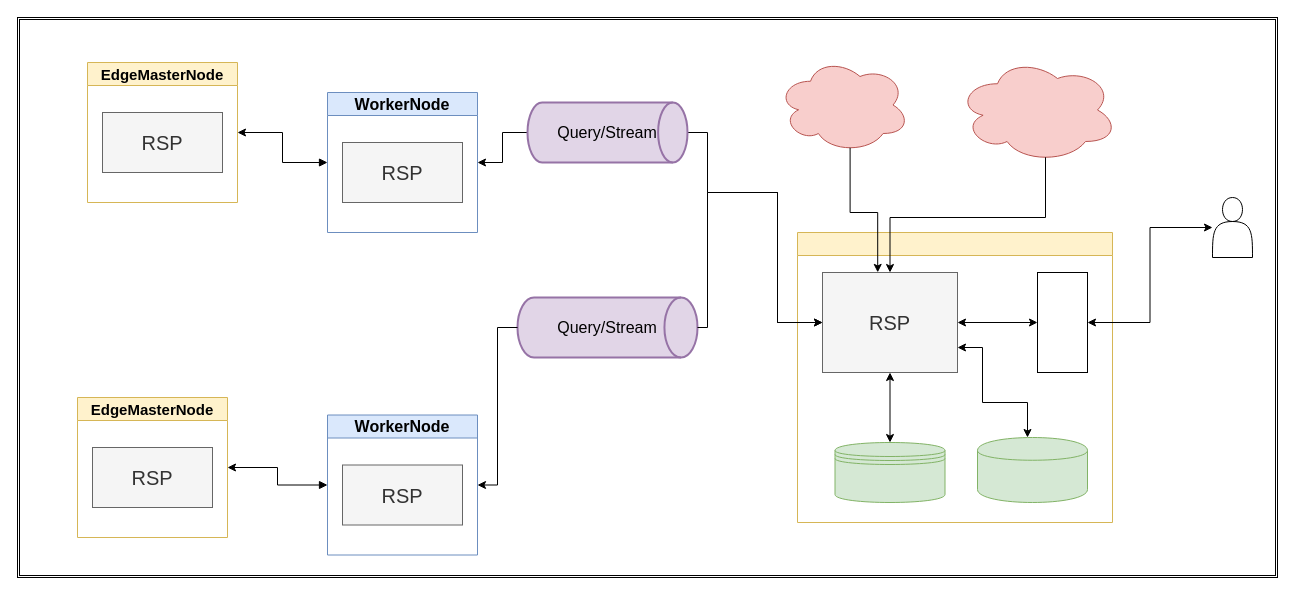
The diagram is 1295 pixels wide and 595 high, and some of its shapes have lost their labels. Each missing label, with the box of its shape:
CityOnto: (776, 56, 910, 152)
ConceptOnto: (956, 56, 1118, 162)
DataBase: (834, 442, 945, 502)
FogMasterNode: (796, 232, 1112, 522)
NodePlatform: (976, 436, 1088, 502)
UCI: (1036, 272, 1088, 372)
